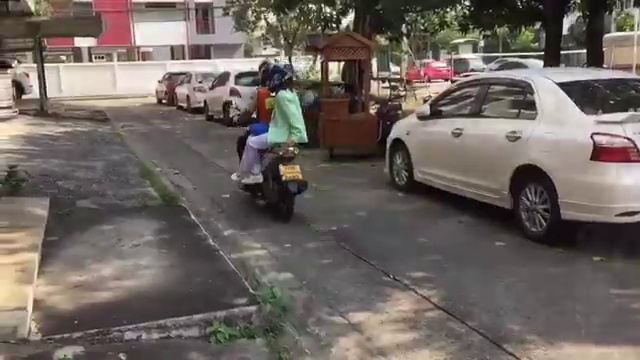helmet: (270, 58, 295, 86)
